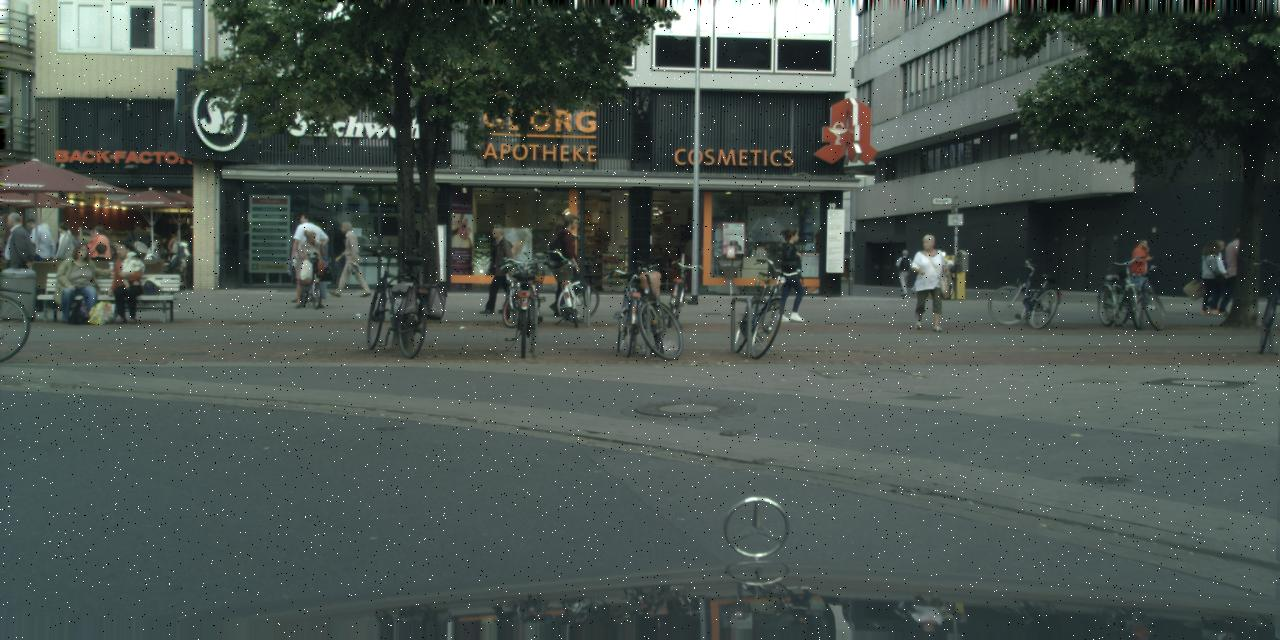ped: (909, 234, 947, 328), (0, 212, 36, 309), (772, 228, 809, 321), (478, 224, 514, 313), (1218, 227, 1253, 312), (288, 213, 328, 285), (20, 219, 52, 299), (48, 221, 80, 301), (292, 229, 324, 307), (333, 220, 363, 296), (1196, 239, 1226, 314), (547, 214, 580, 282), (84, 226, 114, 300), (1202, 240, 1230, 310), (1127, 239, 1154, 307), (125, 221, 149, 281), (162, 229, 192, 274), (895, 249, 913, 295), (549, 280, 561, 316), (549, 253, 563, 270), (321, 281, 327, 301), (292, 295, 297, 303), (324, 260, 329, 268)
